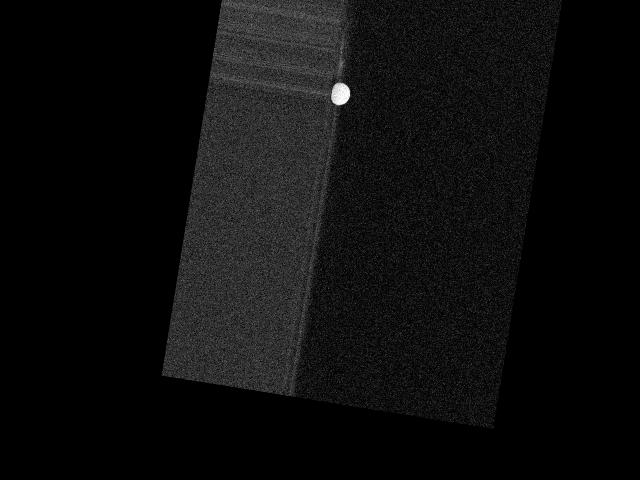egg: (329, 80, 351, 106)
